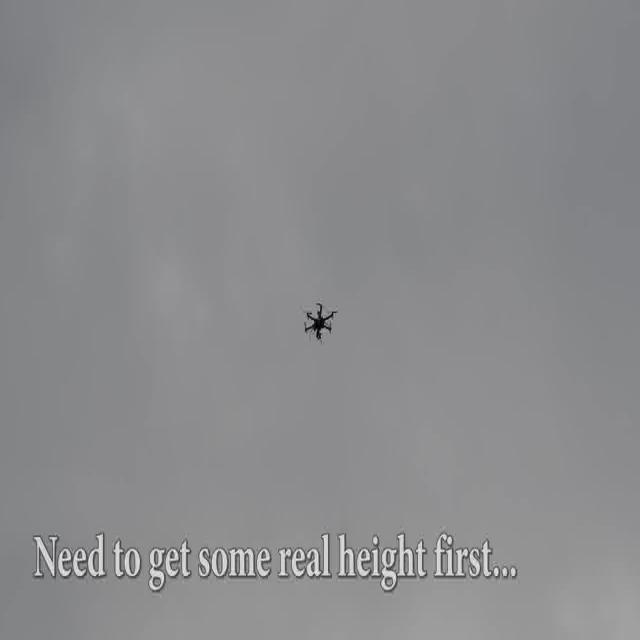drone: (298, 300, 340, 347)
